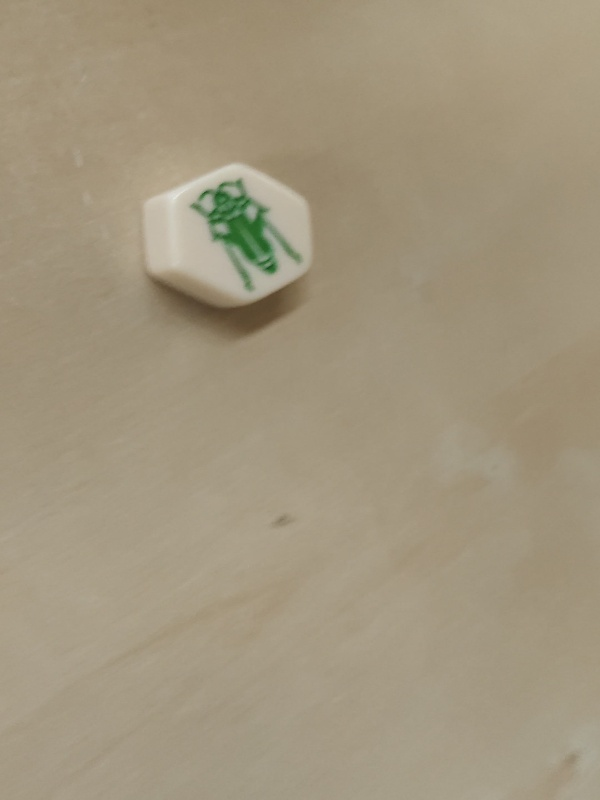white_grasshopper: (141, 161, 323, 319)
